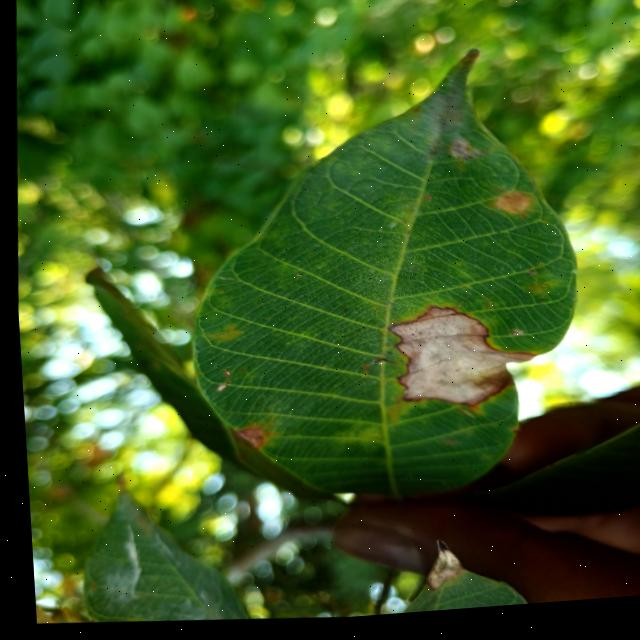Leaf-Blight: (379, 303, 537, 422)
